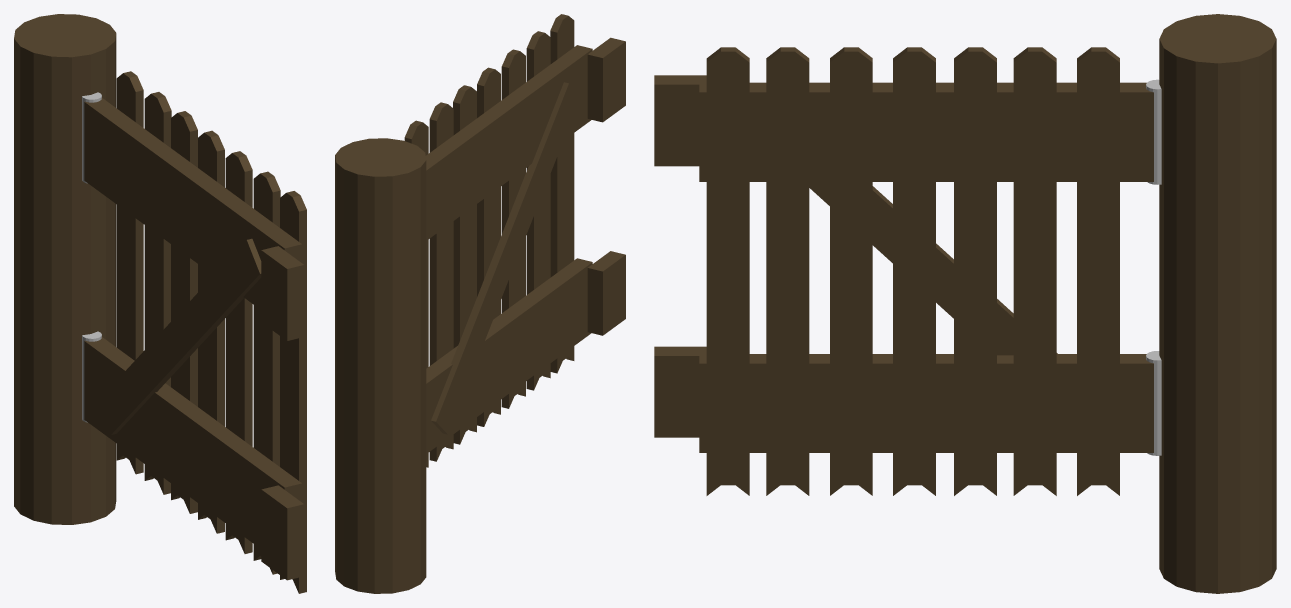
The model's file is FenceGateHalf.fbx.
The picture shows the model from 3 angles, left to right: view 1: azimuth 30°, elevation 25°; view 2: azimuth 150°, elevation 25°; view 3: azimuth 270°, elevation 25°; orthographic projection. The views are drawn at different scales.
Parts seen in each view (by area): view 1: post2, TopRail, Bottom Rail, SupportPost, Picket.003, Picket.008, Picket.001, Picket.002, Picket.009, Picket, Picket.010, Stop.001 (+3 smaller); view 2: post2, TopRail, Bottom Rail, SupportPost, Picket.009, Picket.003, Picket.010, Picket.002, Picket, Picket.001, Stop.001, Stop (+1 smaller); view 3: post2, Picket.003, Picket.009, Picket.002, Picket.010, Picket.001, Picket.008, Picket, TopRail, Bottom Rail, Stop.001, Stop (+3 smaller).
Boxes of the visible parts, x1,y1,x2,y2 form: post2: [14, 14, 116, 524]; TopRail: [84, 98, 302, 309]; Bottom Rail: [84, 337, 302, 548]; SupportPost: [97, 238, 261, 434]; Picket.003: [280, 191, 306, 593]; Picket.008: [116, 71, 143, 474]; Picket.001: [225, 151, 252, 553]; Picket.002: [253, 171, 280, 574]; Picket.009: [144, 92, 171, 494]; Picket: [198, 130, 224, 533]; Picket.010: [171, 111, 197, 513]; Stop.001: [261, 485, 304, 580]; post2: [335, 138, 426, 593]; TopRail: [426, 45, 592, 240]; Bottom Rail: [426, 258, 592, 453]; SupportPost: [431, 82, 580, 434]; Picket.009: [429, 102, 453, 461]; Picket.003: [550, 14, 574, 373]; Picket.010: [453, 85, 476, 444]; Picket.002: [526, 31, 550, 390]; Picket: [477, 67, 500, 426]; Picket.001: [501, 49, 525, 408]; Stop.001: [587, 251, 625, 335]; Stop: [587, 37, 625, 122]; post2: [1159, 14, 1276, 593]; Picket.003: [706, 47, 749, 495]; Picket.009: [1013, 47, 1056, 495]; Picket.002: [766, 47, 809, 495]; Picket.010: [954, 47, 996, 495]; Picket.001: [830, 47, 872, 495]; Picket.008: [1077, 47, 1119, 495]; Picket: [893, 47, 935, 495]; TopRail: [699, 82, 1153, 181]; Bottom Rail: [699, 354, 1153, 452]; Stop.001: [654, 346, 706, 437]; Stop: [654, 75, 706, 166].
Size of the model in its own units: 20 by 100 by 106.
